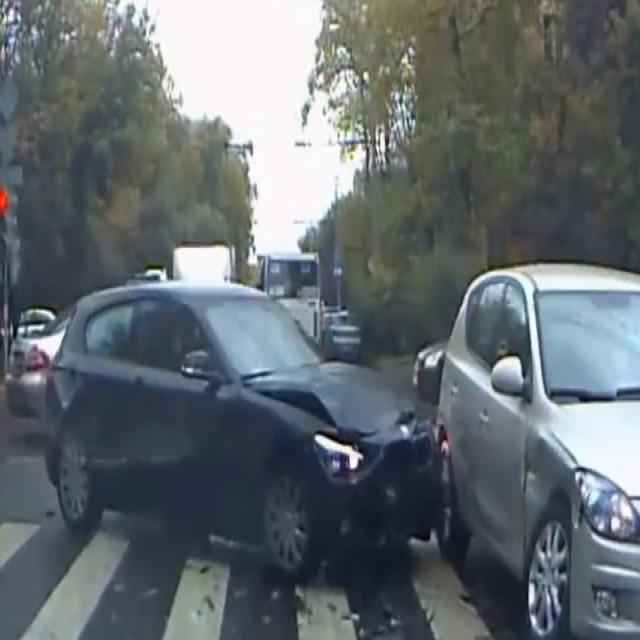accident: (81, 259, 633, 620)
